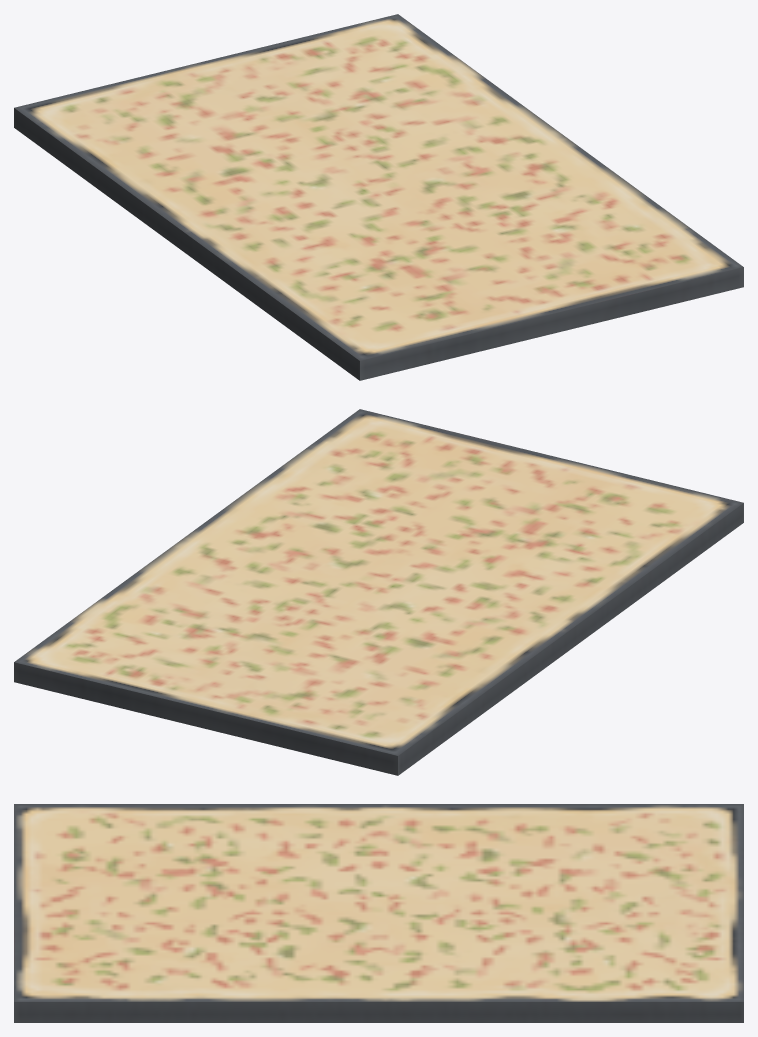
File: jsf_IronPlate_Takoyaki_03.fbx
3 renders of one model, top to bottom at view 1: azimuth 30°, elevation 25°; view 2: azimuth 150°, elevation 25°; view 3: azimuth 270°, elevation 25°, orthographic. The views are drawn at different scales.
Parts seen in each view (by area): view 1: jsf_IronPlate_Takoyaki_03; view 2: jsf_IronPlate_Takoyaki_03; view 3: jsf_IronPlate_Takoyaki_03.
Part boxes in pixels (x1,y1,x2,y2): jsf_IronPlate_Takoyaki_03: [14, 14, 743, 380]; jsf_IronPlate_Takoyaki_03: [14, 409, 743, 775]; jsf_IronPlate_Takoyaki_03: [14, 804, 743, 1022].
Bounding box in the file's own units: 22.38 × 2.15 × 34.9.
